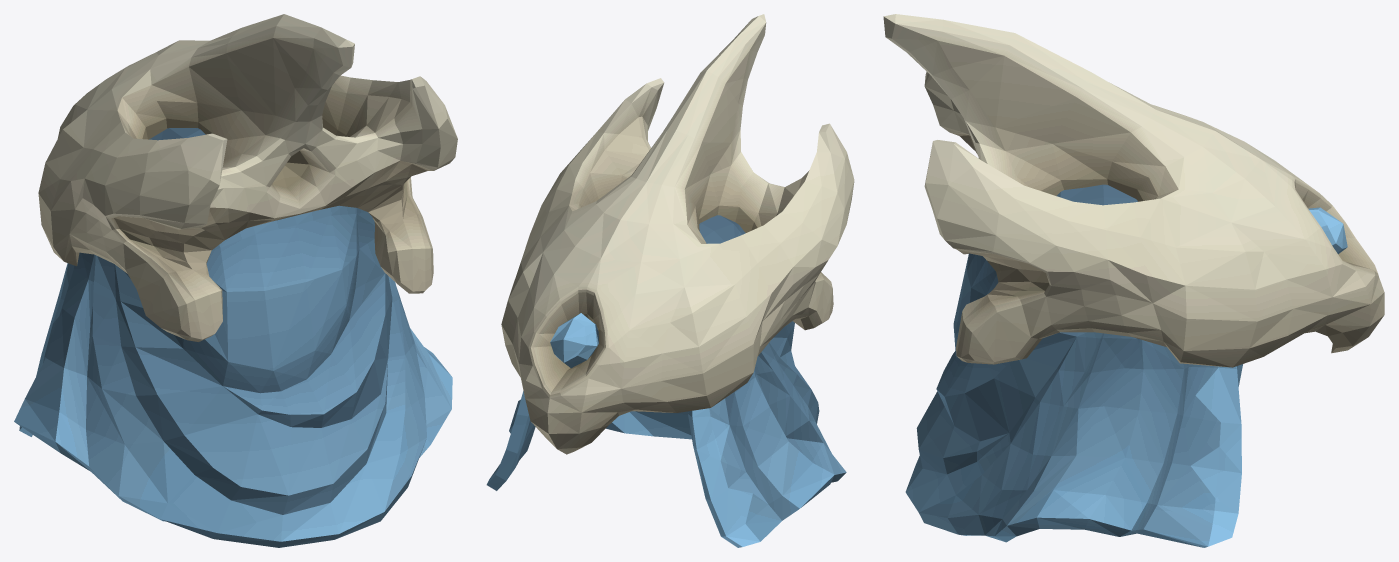
Rendered from CharSkyKid_Hair_AP19Skull.glb.
The picture shows the model from 3 angles, left to right: view 1: azimuth 30°, elevation 25°; view 2: azimuth 150°, elevation 25°; view 3: azimuth 270°, elevation 25°; orthographic projection. The views are drawn at different scales.
Parts seen in each view (by area): view 1: CharSkyKid_Hair_AP19Skull; view 2: CharSkyKid_Hair_AP19Skull; view 3: CharSkyKid_Hair_AP19Skull.
Part boxes in pixels (x1,y1,x2,y2): CharSkyKid_Hair_AP19Skull: [14, 14, 457, 547]; CharSkyKid_Hair_AP19Skull: [486, 14, 854, 547]; CharSkyKid_Hair_AP19Skull: [883, 14, 1384, 547].
Size of the model in its own units: 3.89 by 4.97 by 4.63.
1 material, 1 textured.
